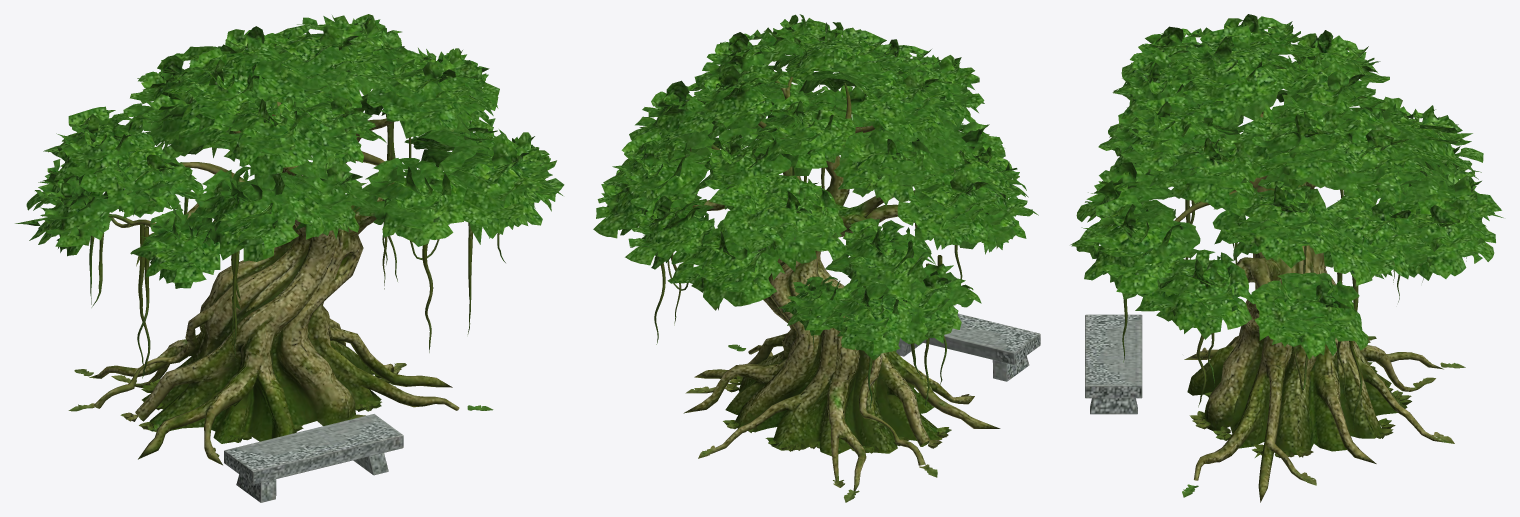
Rendered from station_2.glb.
3 views of the same model, side by side, from view 1: azimuth 30°, elevation 25°; view 2: azimuth 150°, elevation 25°; view 3: azimuth 270°, elevation 25° (orthographic). The views are drawn at different scales.
Parts seen in each view (by area): view 1: tripo_node_7564331c-6364-4002-9adf-a086dd0012a6; view 2: tripo_node_7564331c-6364-4002-9adf-a086dd0012a6; view 3: tripo_node_7564331c-6364-4002-9adf-a086dd0012a6.
Boxes of the visible parts, x1=… form: tripo_node_7564331c-6364-4002-9adf-a086dd0012a6: x1=15, y1=14, x2=564, y2=502; tripo_node_7564331c-6364-4002-9adf-a086dd0012a6: x1=593, y1=14, x2=1040, y2=502; tripo_node_7564331c-6364-4002-9adf-a086dd0012a6: x1=1070, y1=14, x2=1503, y2=502.
Bounding box in the file's own units: 0.9995 × 0.9028 × 0.896.
Materials: 1 (1 with a texture image).
